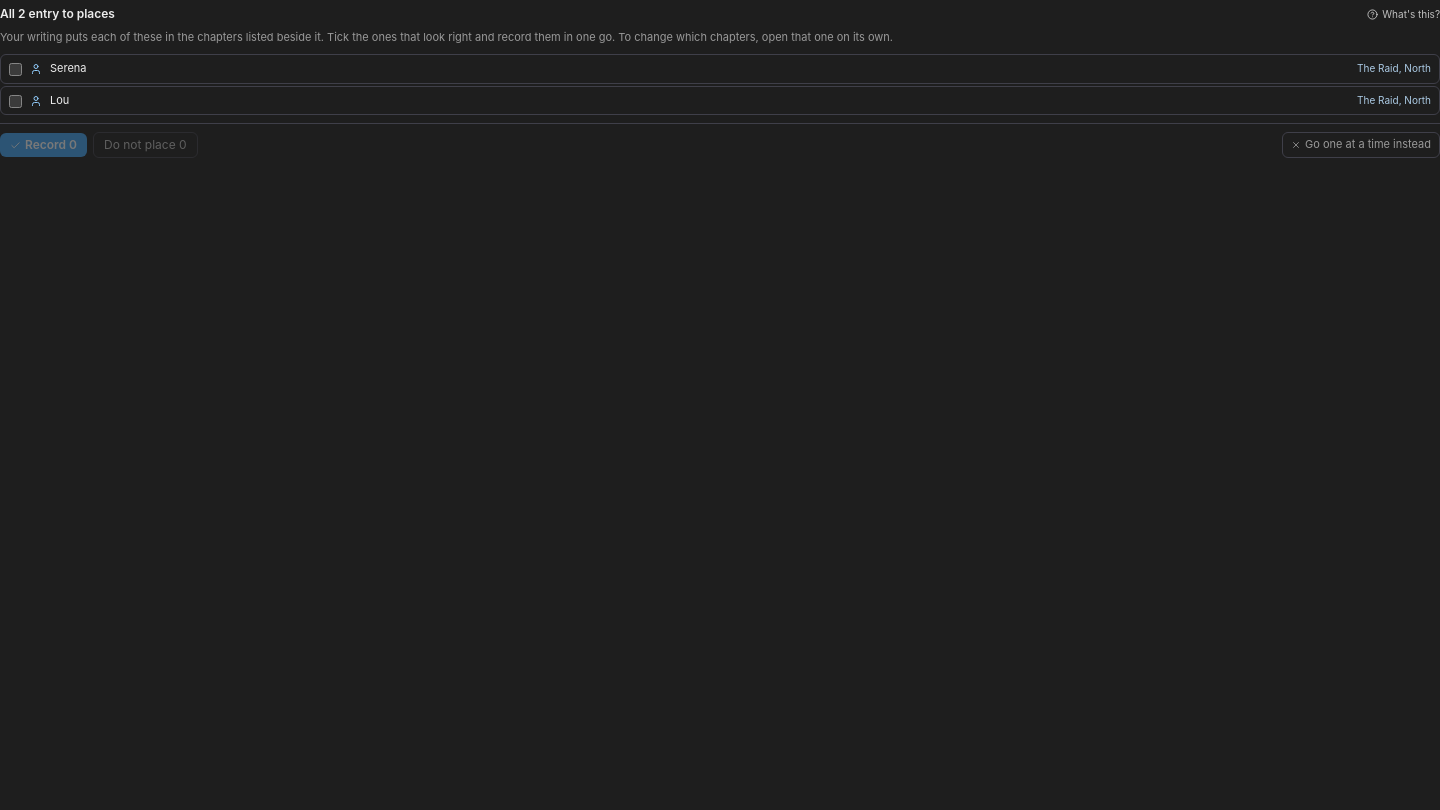
the place sweep › counts what the button will do
Click the checkbox named "Serena": (16, 69) [9,63,22,76]
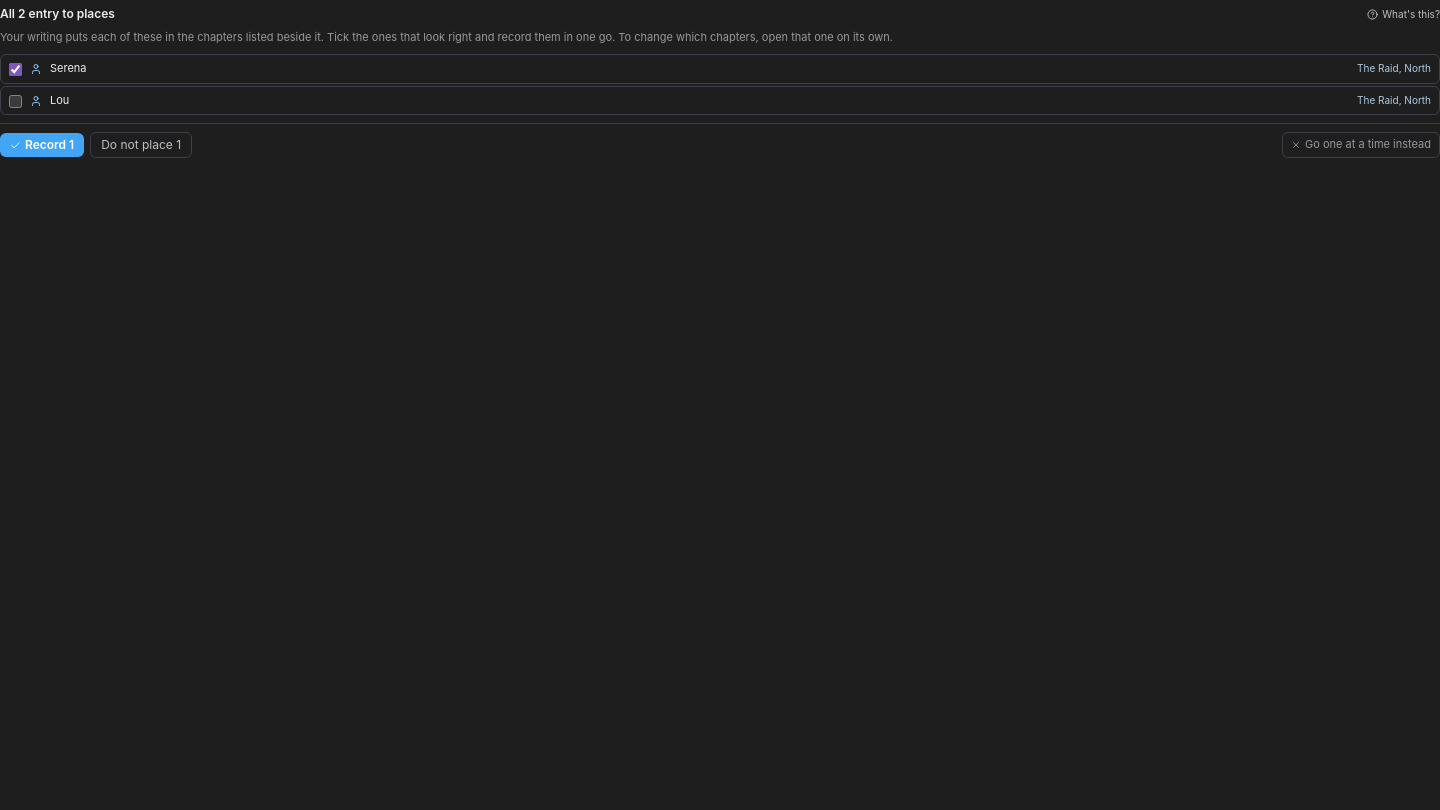
Result: the button with test id "sweep-record-place" reads "Record 1" at [0,133,84,157]
Click the checkbox named "Lou": (16, 101) [9,94,22,108]
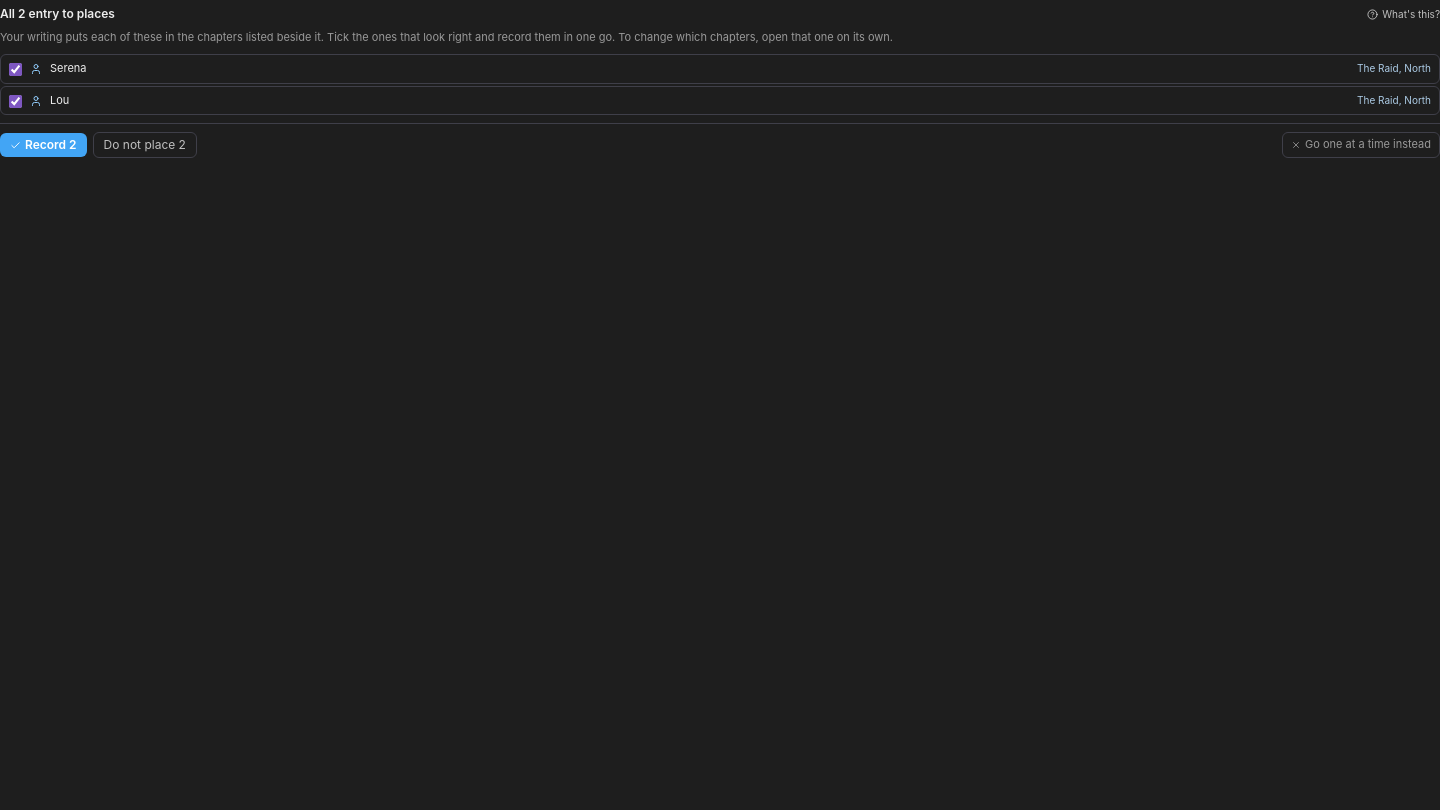
Result: the button with test id "sweep-record-place" reads "Record 2" at [0,133,87,157]
